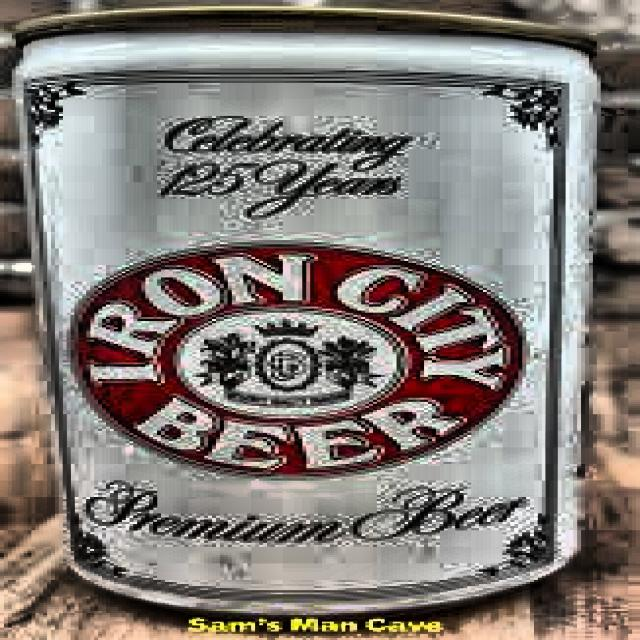can: (0, 6, 640, 626)
